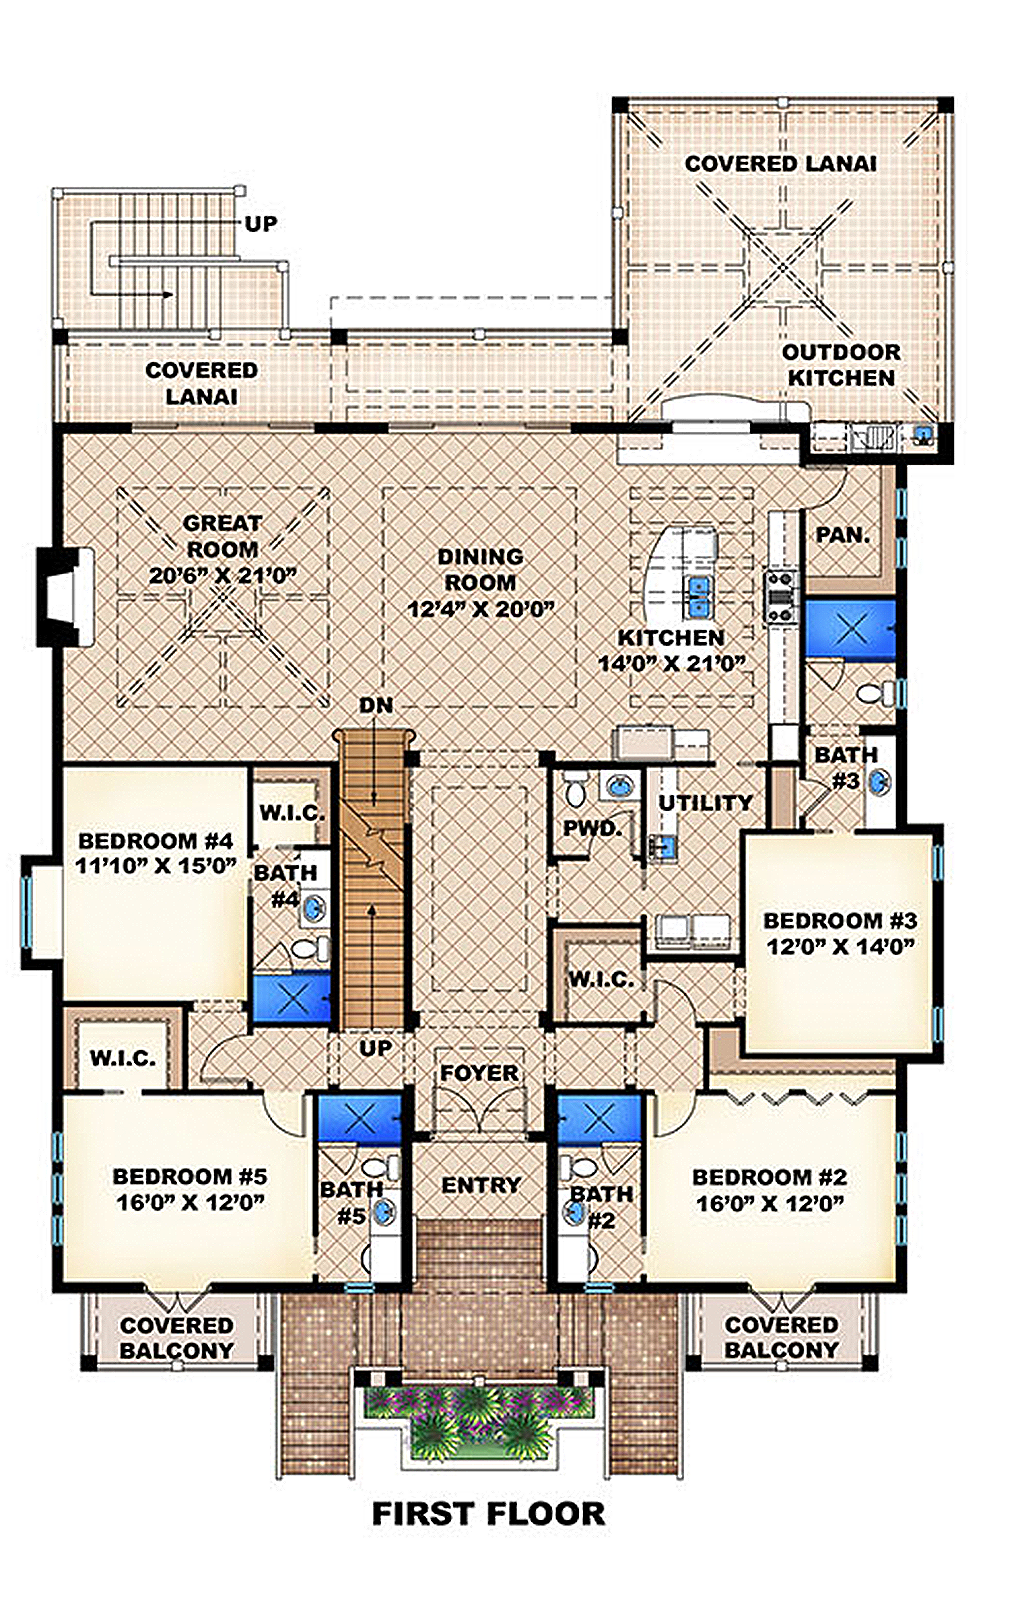door: (428, 1084, 530, 1138), (195, 1032, 260, 1084), (648, 1087, 699, 1148), (260, 1089, 314, 1141), (645, 968, 689, 1031)
large_sink: (867, 733, 913, 830), (843, 670, 906, 718), (367, 1183, 403, 1252), (550, 763, 587, 814), (557, 1153, 603, 1185)
small_sink: (294, 879, 328, 926)
stairs: (51, 181, 289, 336), (557, 1282, 692, 1480), (331, 718, 414, 1036), (274, 1289, 364, 1492)
windows: (891, 1121, 921, 1272), (47, 1119, 70, 1252), (18, 865, 42, 960)
